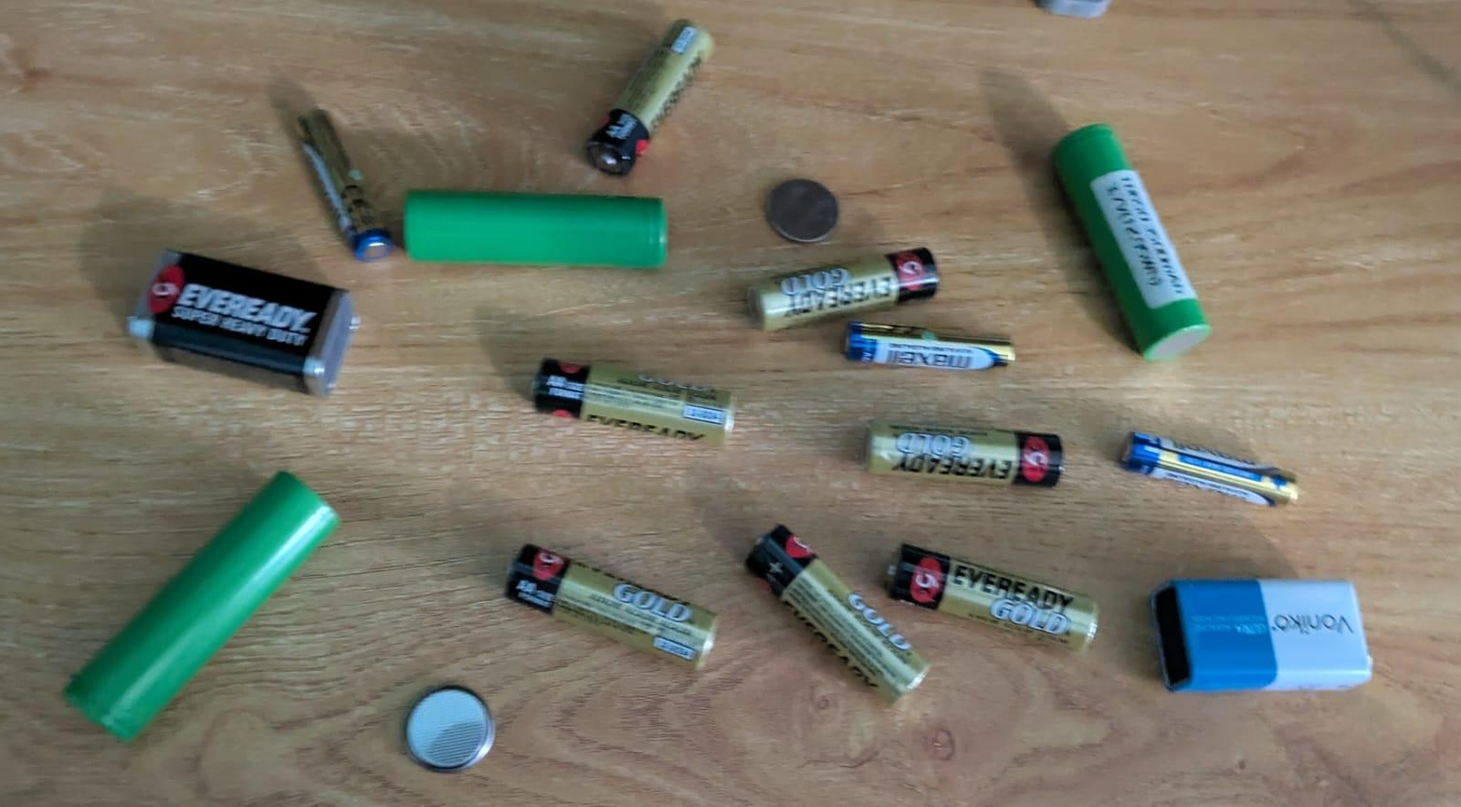9V: (123, 247, 354, 395), (1149, 563, 1388, 697)
AA: (739, 522, 933, 699), (501, 541, 723, 670), (882, 541, 1100, 650), (584, 17, 715, 179), (531, 357, 739, 443), (746, 246, 939, 332), (872, 419, 1066, 485)
AAA: (296, 107, 393, 260), (1118, 430, 1298, 506), (842, 321, 1017, 370)
COIN: (400, 684, 499, 775), (763, 178, 839, 245)
